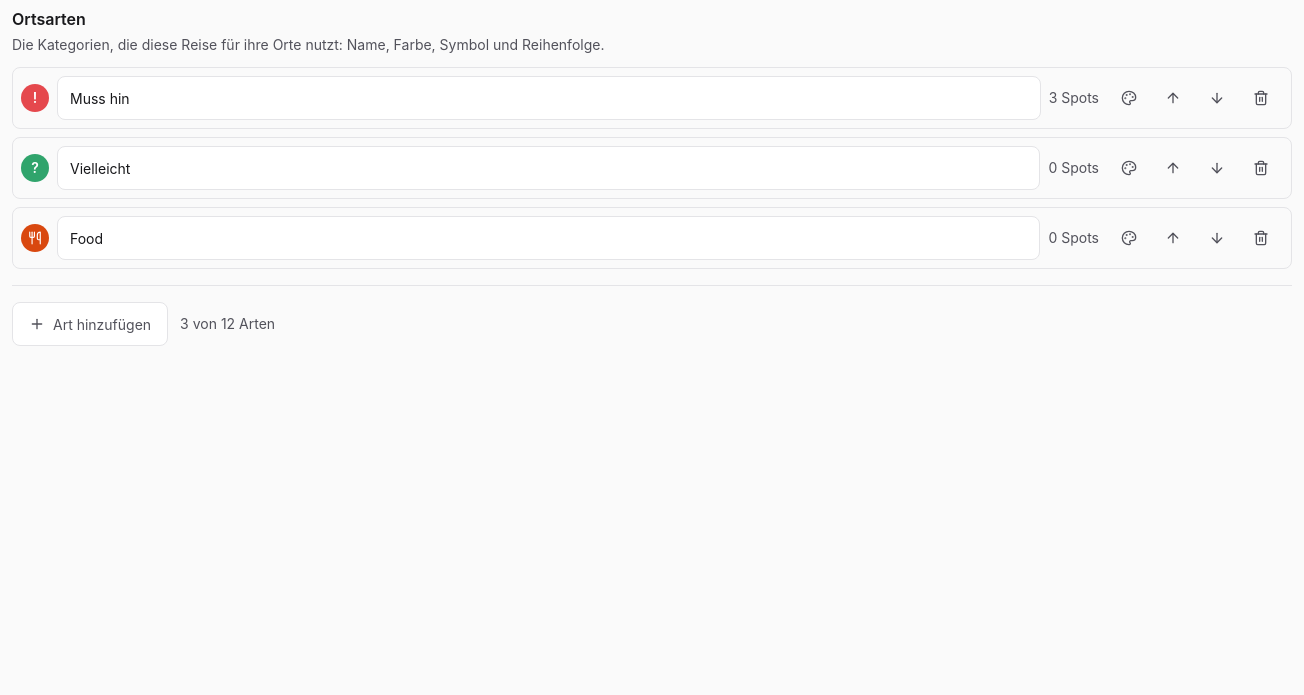
spot kinds section › T-29-10 filters symbols umlaut-safe in German and shows the empty state
Click the button with test id "kind-add-menu". click: (90,324)
box: [12,302,168,346]
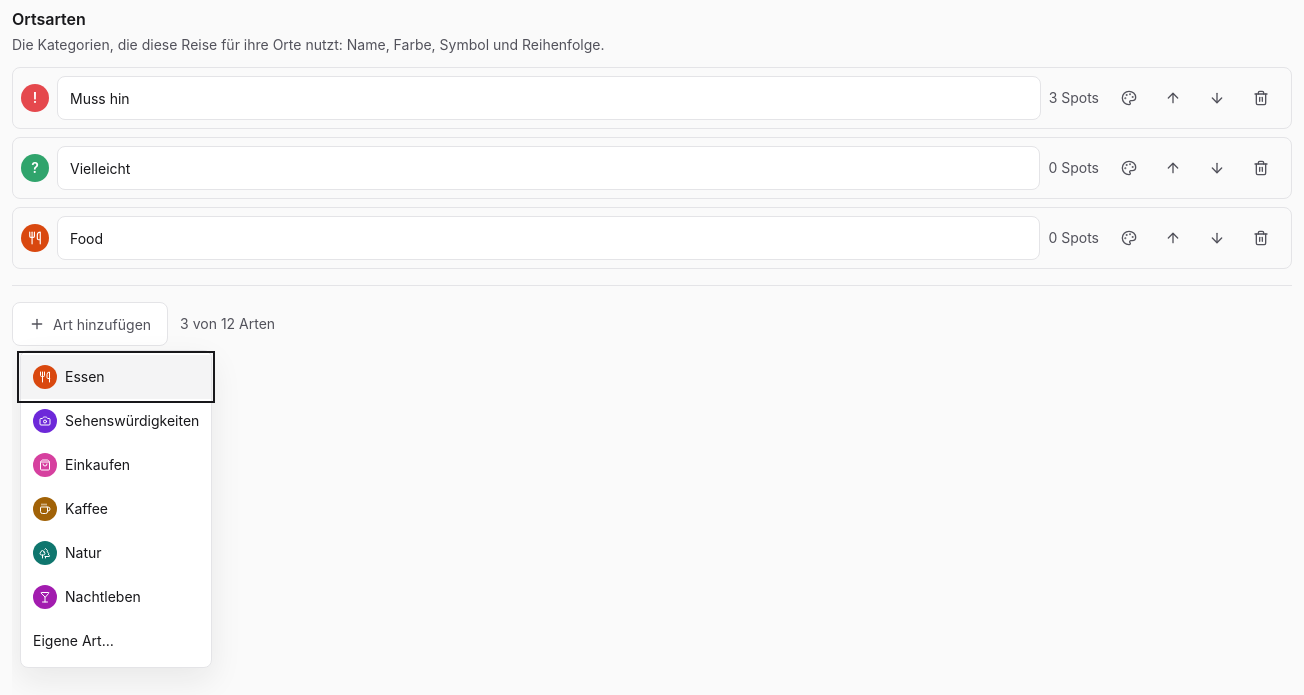
Click the menu item with test id "kind-add-custom". click: (116,641)
box: [21,619,211,663]
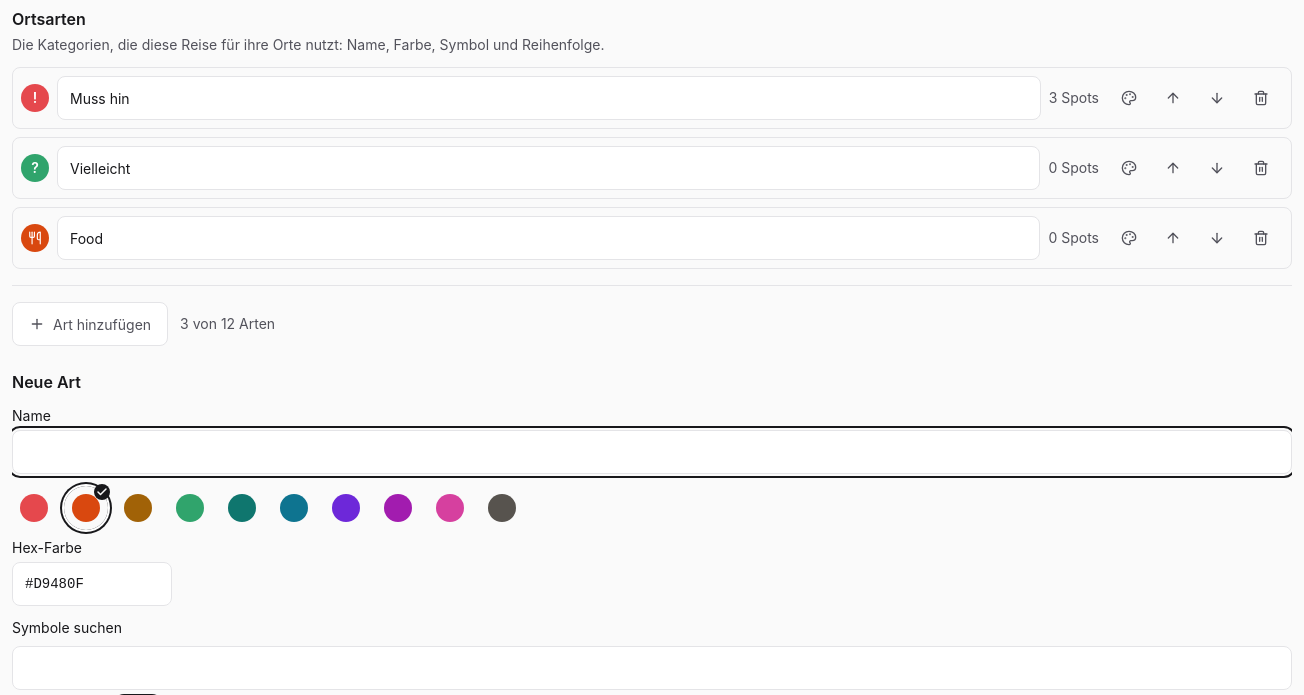
Type "KAT" into the search field. click: (652,668)
box: [12,646,1292,690]
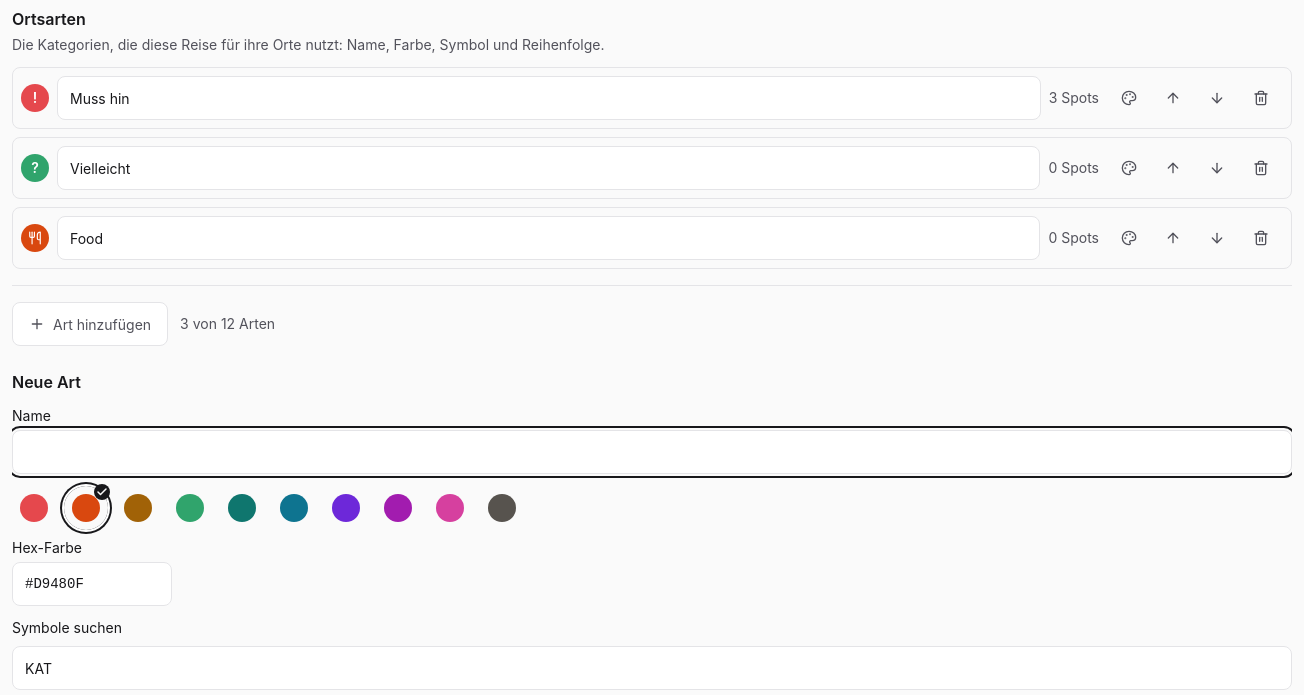
Replace the text in the search field with "zzz". click: (652,668)
box: [12,646,1292,690]
(page scrolled)
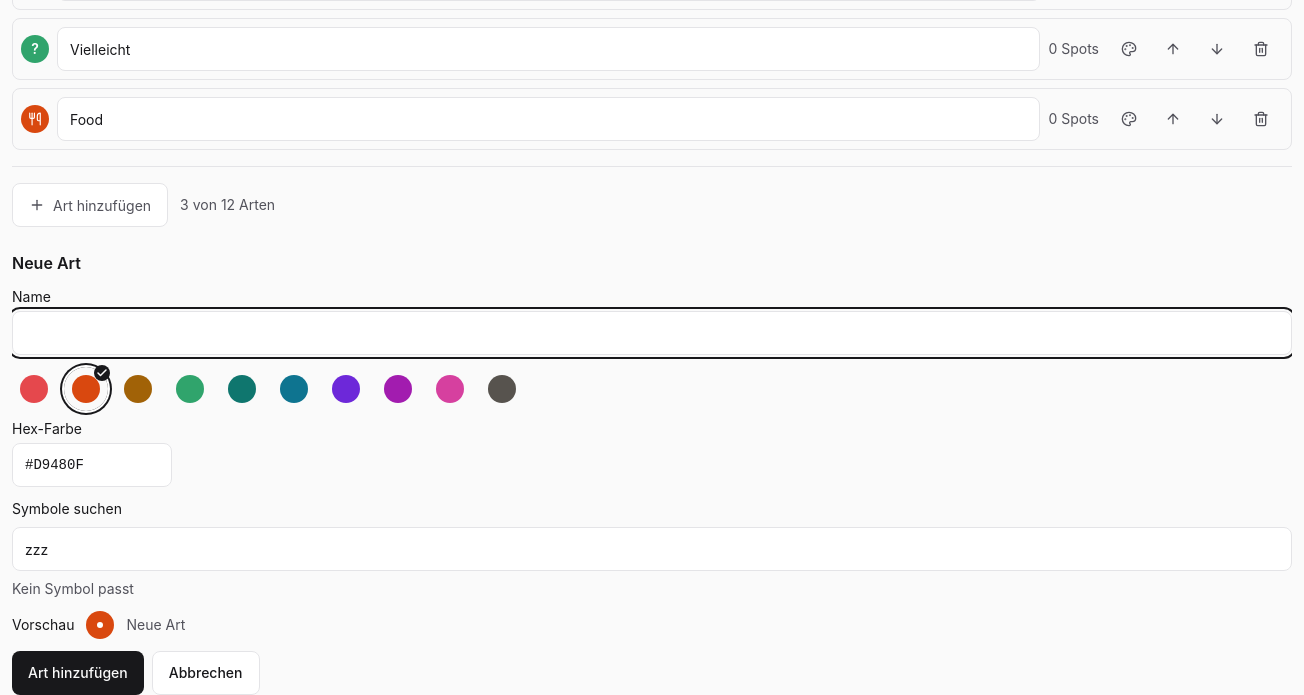
Check: the text "Kein Symbol passt" is shown, box [12,580,134,597]
